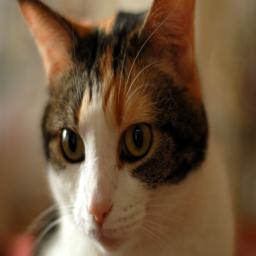catnose: (86, 195, 114, 229)
